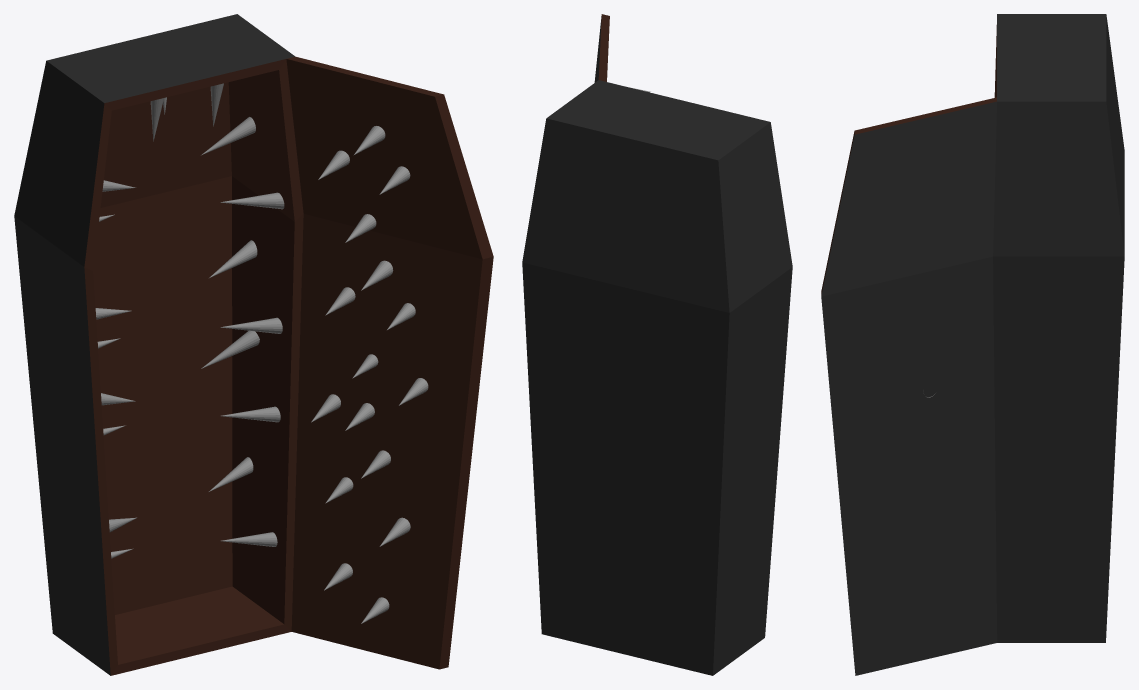
The model's file is spikeBox.fbx.
3 renders of one model, left to right at view 1: azimuth 30°, elevation 25°; view 2: azimuth 150°, elevation 25°; view 3: azimuth 270°, elevation 25°, orthographic. The views are drawn at different scales.
Parts seen in each view (by area): view 1: Spike Box; view 2: Spike Box; view 3: Spike Box.
Part boxes in pixels (x1,y1,x2,y2): Spike Box: (14,14,493,675); Spike Box: (522,14,792,675); Spike Box: (821,14,1124,675).
Size of the model in its own units: 115 by 102 by 199.
